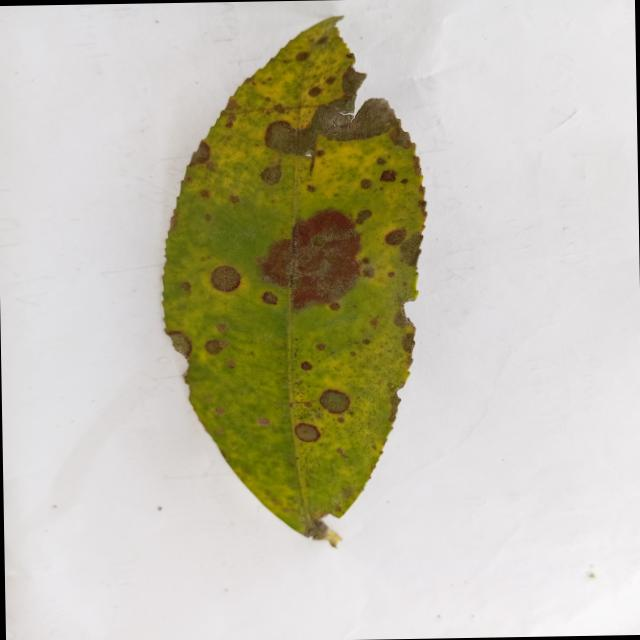leaf_spot: (162, 17, 425, 545)
